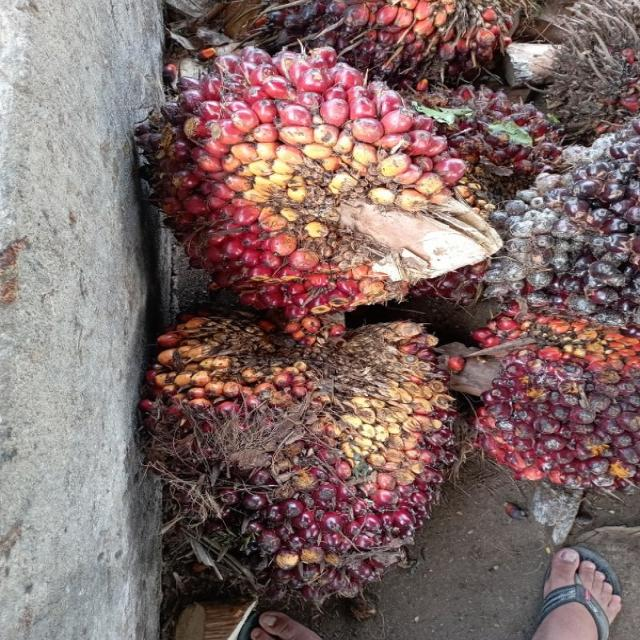fraksi 1: (64, 288, 491, 630)
fraksi 3: (76, 3, 568, 349)
